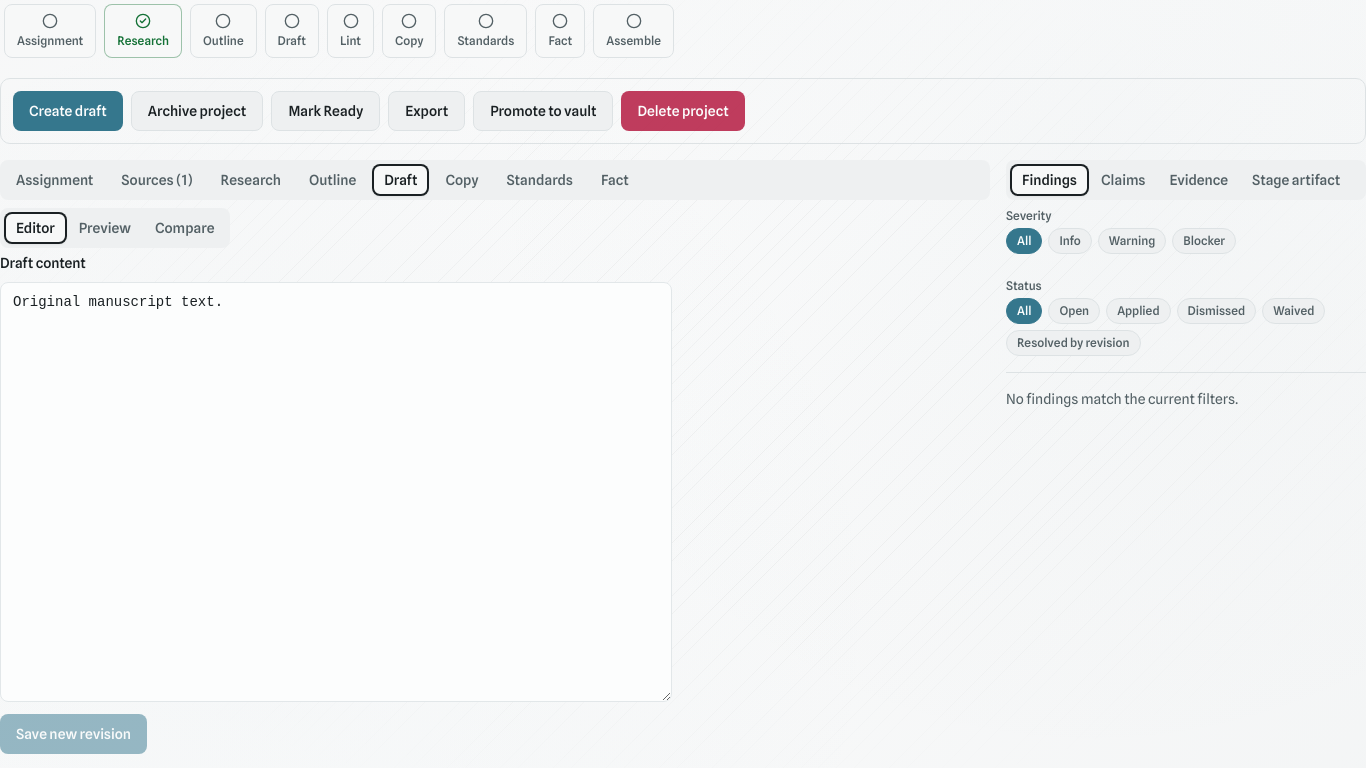
Test: DraftWorkspace › offers Reload and Compare on a 409 save conflict, and never silently overwrites
Step 1. Replace the text in the text box labelled "Draft content" with "Edited manuscript text." → [336, 492], box [0,282,672,702]
(page scrolled)
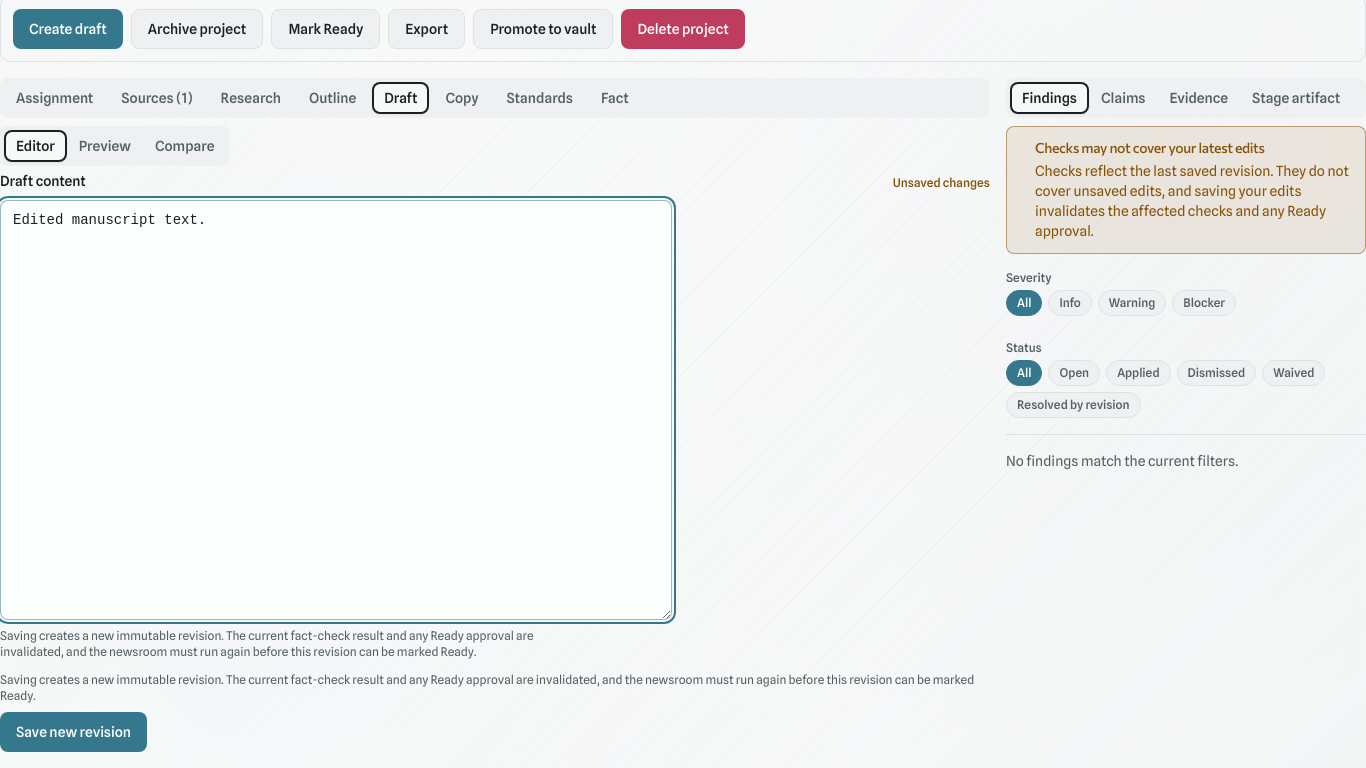
Step 2. Click the button "Save new revision" → [74, 732], box [0,712,147,752]
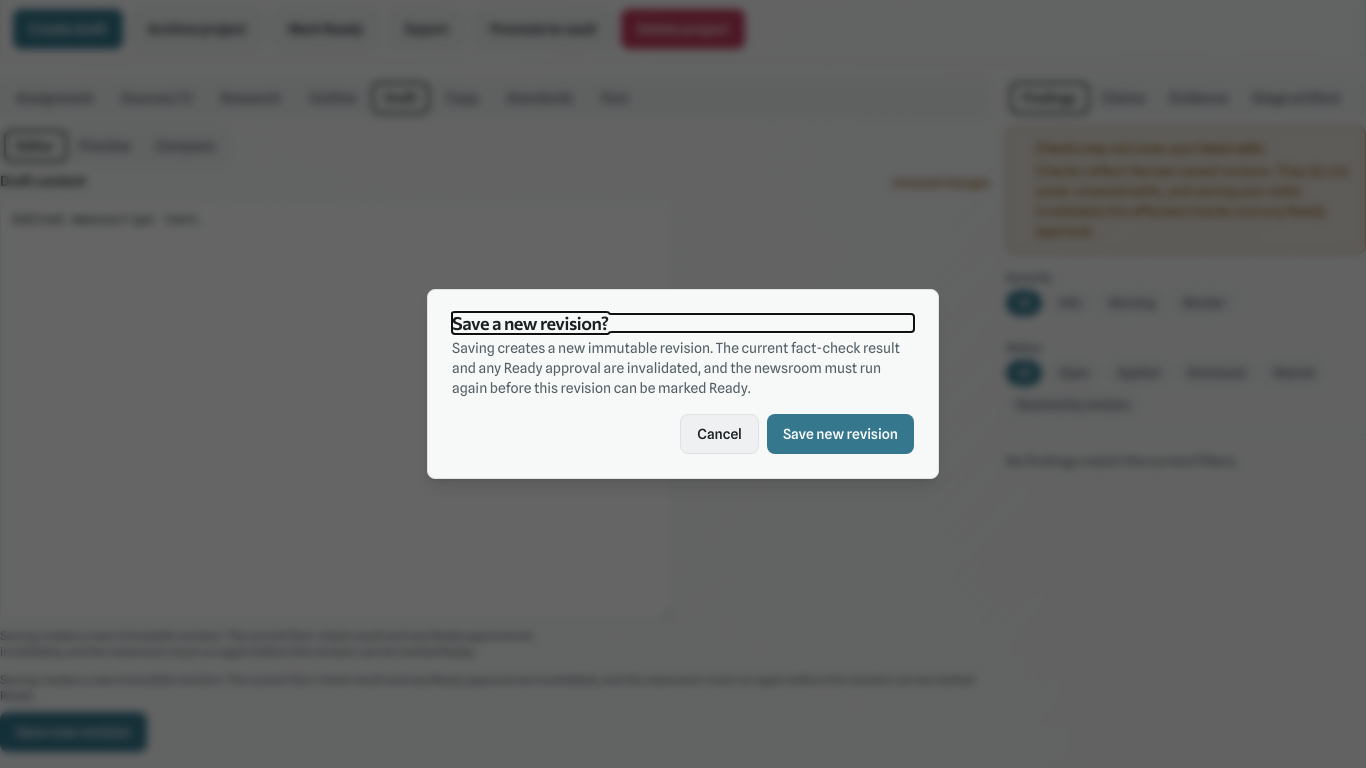
Step 3. Click the button "Save new revision" → [840, 434], box [767,414,914,454]
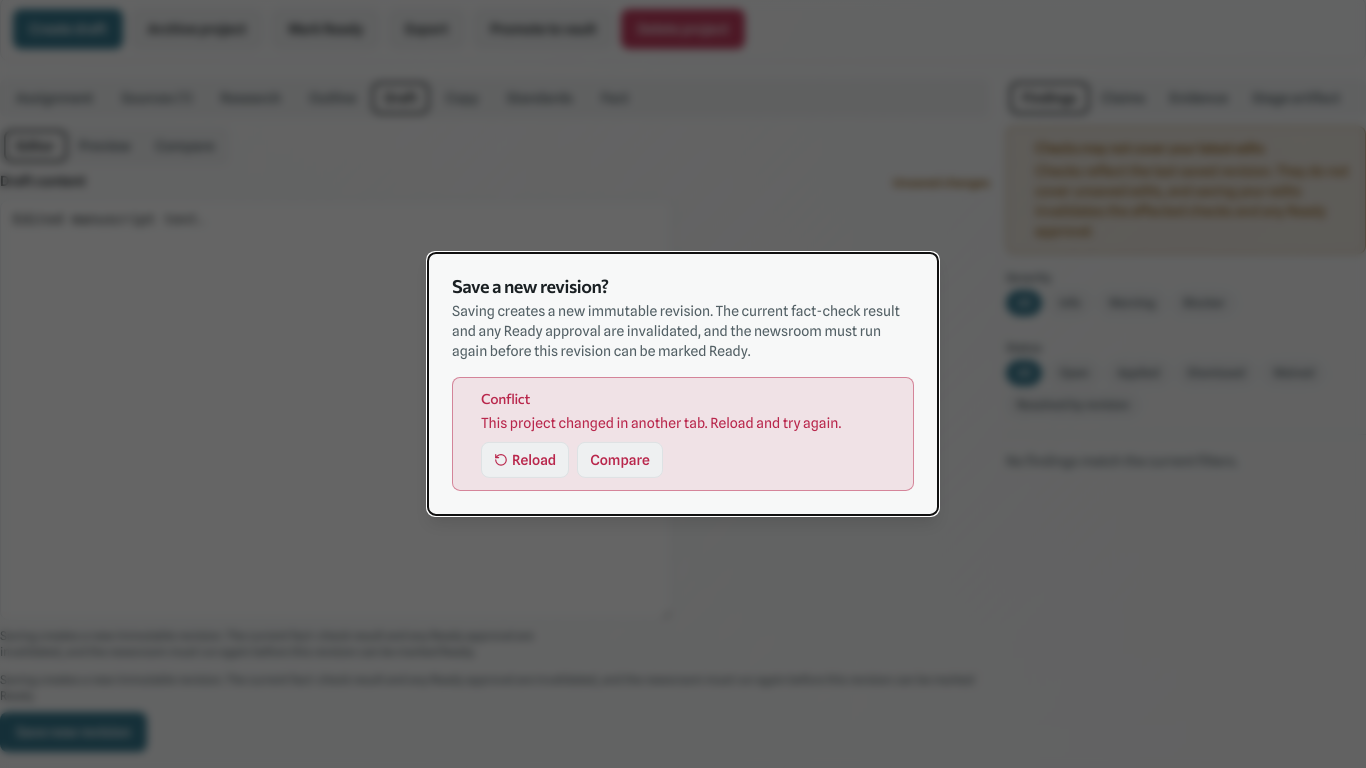
Now the heading "Conflict" is shown, box [481,390,530,407]
Now the button "Reload" is shown, box [481,442,569,478]
Now the button "Compare" is shown, box [577,442,663,478]
